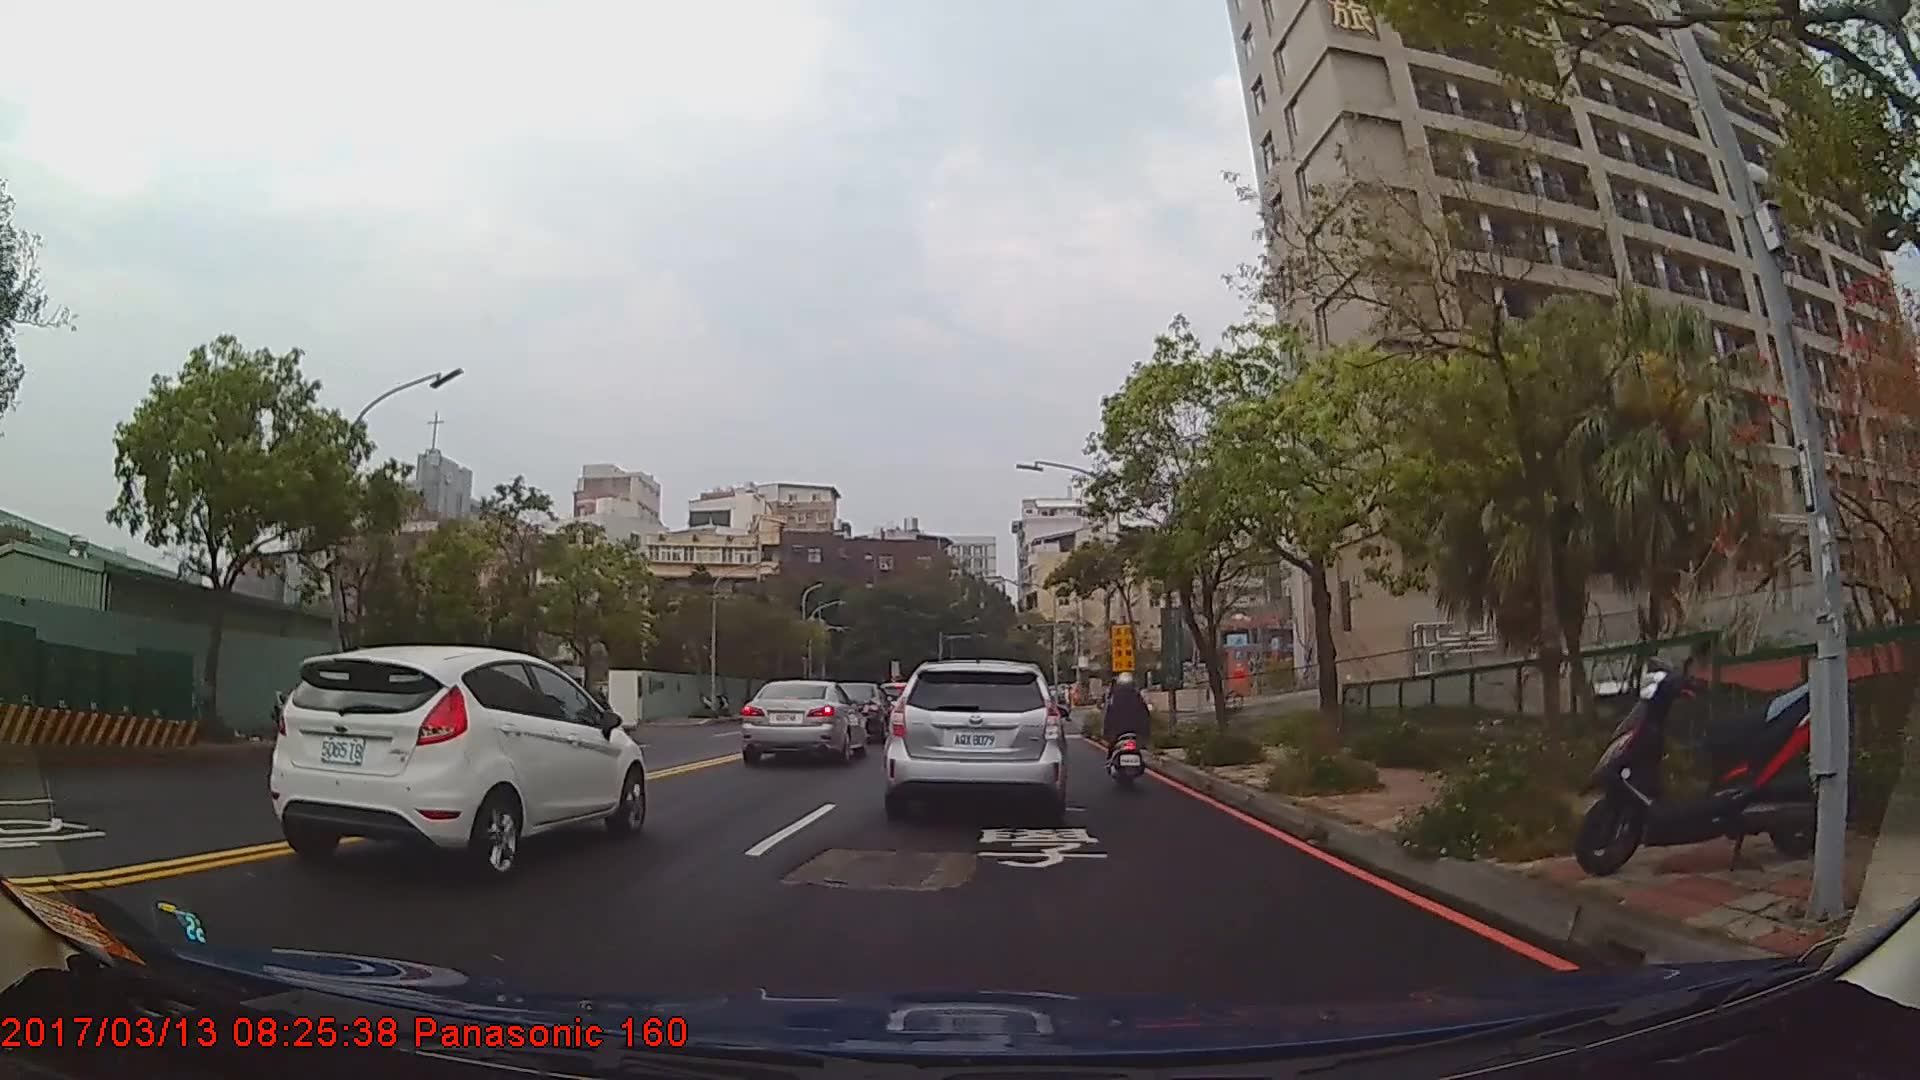rider: (1105, 670, 1156, 792)
vehicle: (269, 644, 646, 883), (886, 659, 1064, 818), (741, 677, 867, 765)
